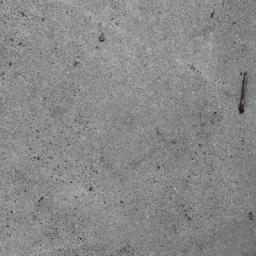FOD: (237, 69, 252, 117)
